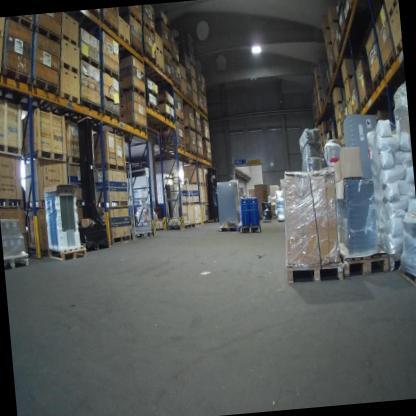pallet: (338, 245, 391, 280), (286, 259, 344, 288), (23, 146, 67, 169), (0, 63, 34, 89), (31, 75, 61, 102), (36, 21, 63, 48), (48, 245, 86, 264), (0, 138, 24, 162), (6, 14, 36, 33), (122, 116, 149, 137), (93, 159, 126, 176), (119, 82, 147, 101), (79, 50, 102, 73), (4, 254, 30, 273), (100, 62, 121, 85), (79, 96, 103, 116), (0, 193, 25, 212), (380, 51, 397, 77), (369, 70, 387, 94), (59, 30, 80, 50), (60, 88, 82, 107), (110, 231, 134, 248), (84, 240, 111, 255), (102, 15, 121, 36), (97, 198, 130, 210), (60, 58, 80, 77), (161, 140, 187, 153), (388, 252, 404, 273), (168, 220, 191, 234), (102, 108, 122, 124), (358, 93, 374, 112), (128, 9, 144, 28), (239, 223, 262, 236), (27, 196, 49, 209), (130, 41, 145, 58), (385, 0, 398, 19), (84, 9, 103, 22), (145, 84, 160, 100), (118, 31, 131, 48), (157, 98, 174, 110), (219, 224, 239, 234), (147, 101, 161, 115), (65, 154, 80, 167), (163, 41, 173, 59), (349, 104, 362, 117), (144, 22, 155, 37), (342, 73, 354, 86), (154, 60, 165, 74), (161, 112, 175, 123), (164, 70, 174, 84), (173, 80, 183, 94), (333, 99, 344, 110), (175, 113, 185, 124), (186, 149, 198, 158), (184, 125, 196, 134), (182, 201, 200, 207), (155, 45, 164, 56), (187, 95, 195, 105), (198, 105, 206, 114), (330, 71, 336, 82), (195, 220, 203, 228), (196, 128, 203, 137), (182, 90, 189, 99), (346, 95, 352, 105), (337, 132, 343, 142), (180, 74, 186, 84), (202, 110, 209, 118), (316, 87, 324, 94), (314, 75, 321, 83), (332, 37, 337, 48), (201, 89, 207, 98), (197, 153, 204, 160), (191, 88, 198, 95), (191, 74, 197, 82), (190, 61, 196, 69), (196, 84, 202, 92), (190, 221, 196, 228), (317, 98, 324, 104), (335, 117, 340, 124), (342, 129, 346, 137)
